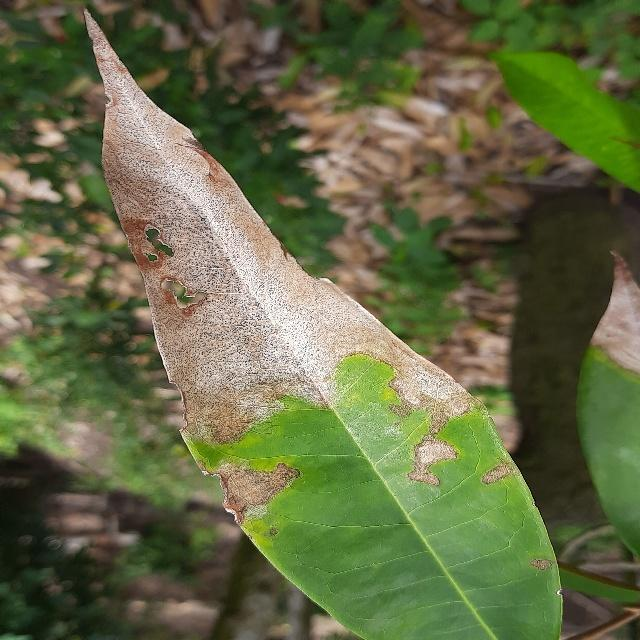Leaf Blight: (79, 5, 575, 640)
